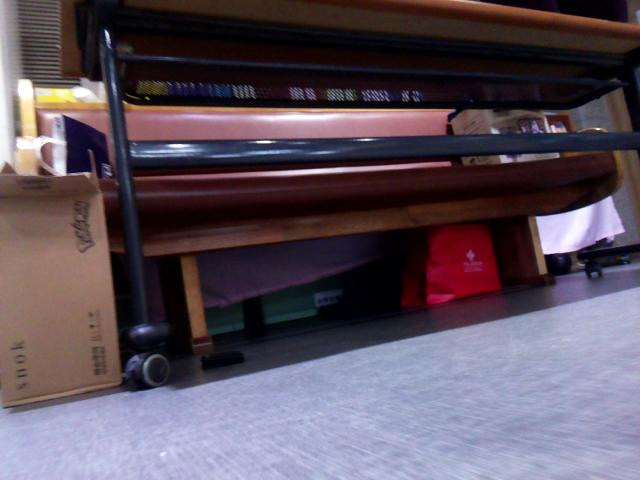wallet: (192, 341, 250, 375)
